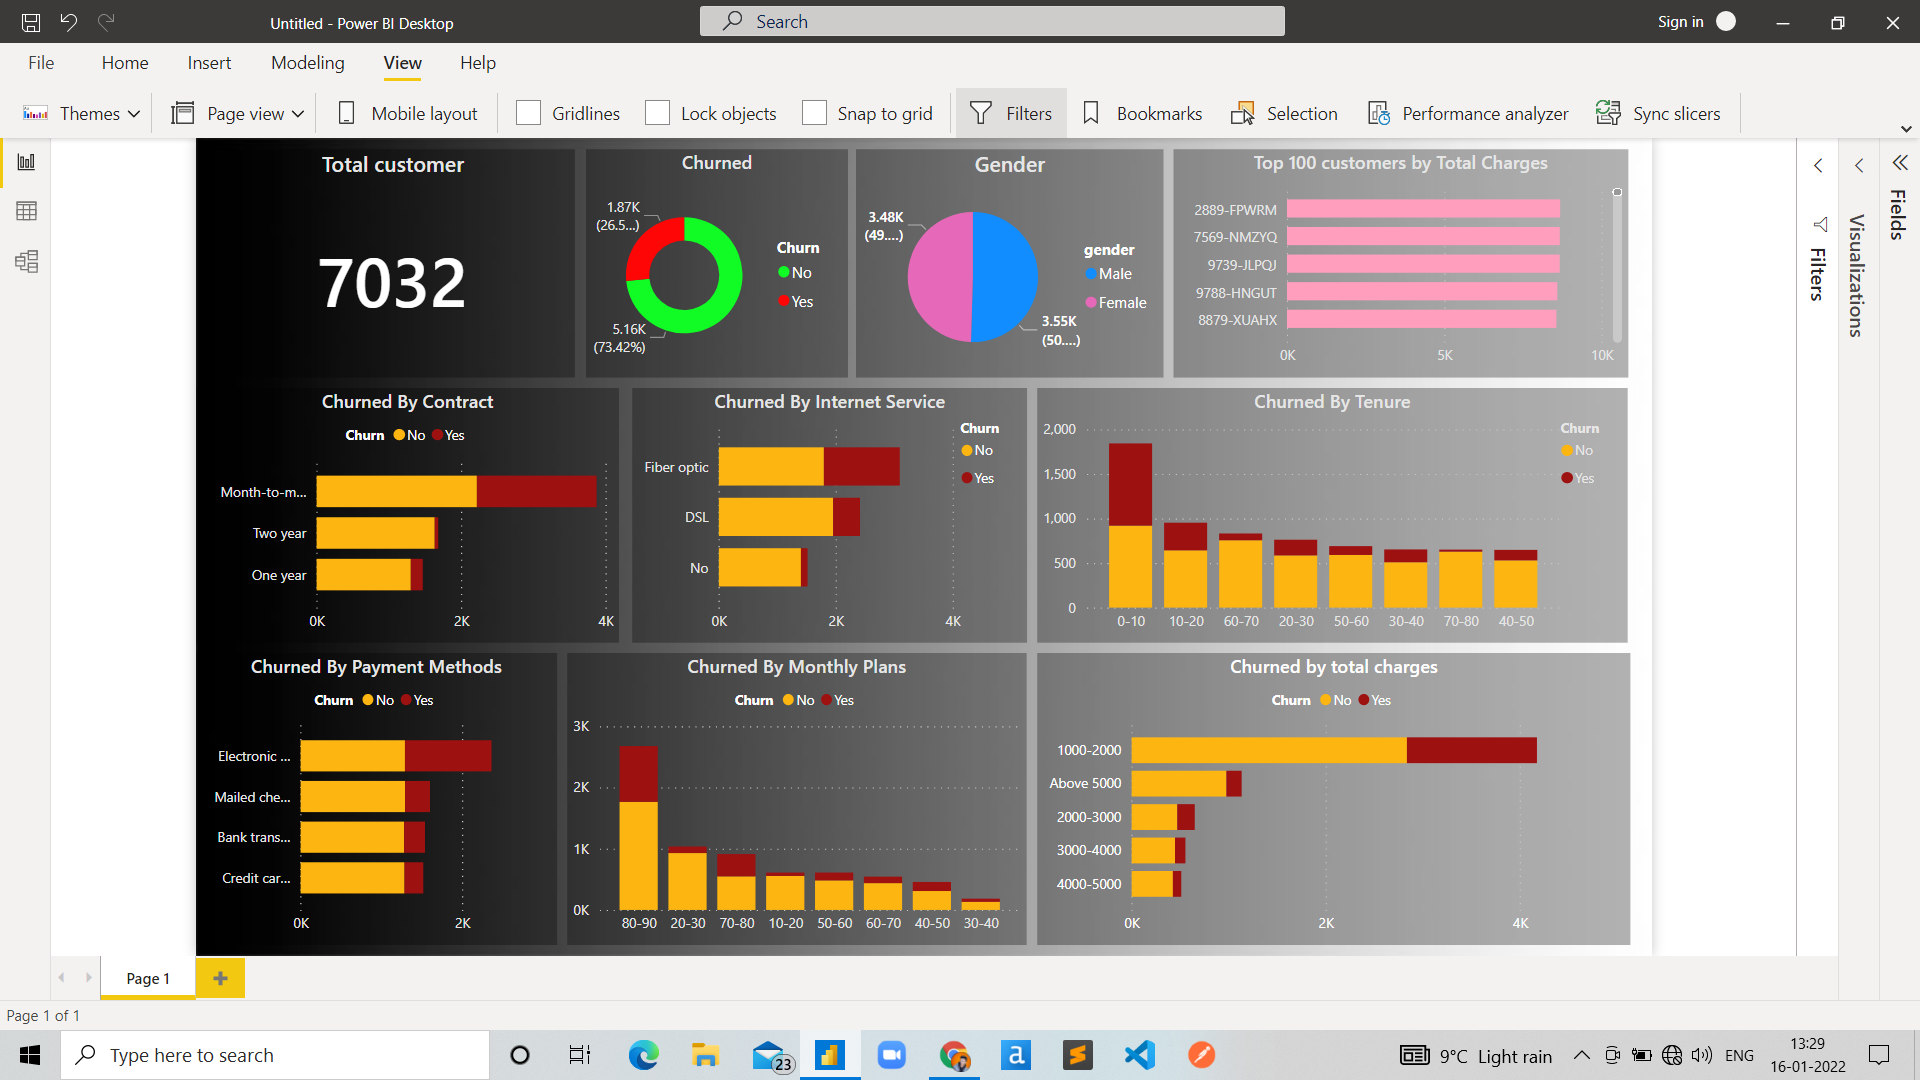

Layout of this report page (visuals, bound fields, positions):
{"tool":"powerbi","page":{"name":"Page 1","canvas":[1280,720],"ordinal":0},"visuals":[{"type":"card","title":"Total customer","fields":{"Values":["CountNonNull(Telco-Customer-Churn-Dataset.customerID)"]},"box":[13.7,9.6,320,200.5],"z":0},{"type":"pieChart","title":"Gender","fields":{"Category":["Telco-Customer-Churn-Dataset.gender"],"Y":["CountNonNull(Telco-Customer-Churn-Dataset.gender)"]},"box":[580.9,9.6,270.6,200.5],"z":1000},{"type":"columnChart","title":"Churned By Tenure","fields":{"Series":["Telco-Customer-Churn-Dataset.Churn"],"Category":["Telco-Customer-Churn-Dataset.TenureRange"],"Y":["CountNonNull(Telco-Customer-Churn-Dataset.TenureRange)"]},"box":[740.3,219.7,519.1,223.9],"z":2000},{"type":"barChart","title":"Churned By Internet Service","fields":{"Category":["Telco-Customer-Churn-Dataset.InternetService"],"Y":["CountNonNull(Telco-Customer-Churn-Dataset.InternetService)"],"Series":["Telco-Customer-Churn-Dataset.Churn"]},"box":[383.2,219.7,347.5,223.9],"z":3000},{"type":"columnChart","title":"Churned By Monthly Plans","fields":{"Category":["Telco-Customer-Churn-Dataset.ChargesRange"],"Series":["Telco-Customer-Churn-Dataset.Churn"],"Y":["CountNonNull(Telco-Customer-Churn-Dataset.ChargesRange)"]},"box":[326.9,453.2,403.8,256.8],"z":4000},{"type":"barChart","title":"Churned By Contract","fields":{"Category":["Telco-Customer-Churn-Dataset.Contract"],"Series":["Telco-Customer-Churn-Dataset.Churn"],"Y":["CountNonNull(Telco-Customer-Churn-Dataset.Contract)"]},"box":[0,219.7,372.2,223.9],"z":5000},{"type":"donutChart","title":"Churned","fields":{"Category":["Telco-Customer-Churn-Dataset.Churn"],"Y":["CountNonNull(Telco-Customer-Churn-Dataset.Churn)"]},"box":[343.3,9.6,230.7,200.5],"z":6000},{"type":"barChart","title":"Churned by total charges","fields":{"Category":["Telco-Customer-Churn-Dataset.YearlyCharges"],"Y":["CountNonNull(Telco-Customer-Churn-Dataset.YearlyCharges)"],"Series":["Telco-Customer-Churn-Dataset.Churn"]},"box":[740.3,453.2,521.9,256.8],"z":7000},{"type":"barChart","title":"Churned By Payment Methods","fields":{"Series":["Telco-Customer-Churn-Dataset.Churn"],"Category":["Telco-Customer-Churn-Dataset.PaymentMethod"],"Y":["CountNonNull(Telco-Customer-Churn-Dataset.PaymentMethod)"]},"box":[0,453.2,317.3,256.8],"z":8000},{"type":"barChart","title":"Top 100 customers by Total Charges","fields":{"Category":["Telco-Customer-Churn-Dataset.customerID"],"Y":["Sum(Telco-Customer-Churn-Dataset.TotalCharges)"]},"box":[859.7,9.6,399.7,200.5],"z":9000}]}

Visuals, with their boxes on the page's 1280x720 design canvas (x1, y1, x2, y2). These are canvas units, not pixel positions in the 1920x1080 screenshot, which may show the page scaled, cropped or inside an application window:
"Total customer" card: 14 10 334 210
"Gender" pieChart: 581 10 852 210
"Churned By Tenure" columnChart: 740 220 1259 444
"Churned By Internet Service" barChart: 383 220 731 444
"Churned By Monthly Plans" columnChart: 327 453 731 710
"Churned By Contract" barChart: 0 220 372 444
"Churned" donutChart: 343 10 574 210
"Churned by total charges" barChart: 740 453 1262 710
"Churned By Payment Methods" barChart: 0 453 317 710
"Top 100 customers by Total Charges" barChart: 860 10 1259 210
